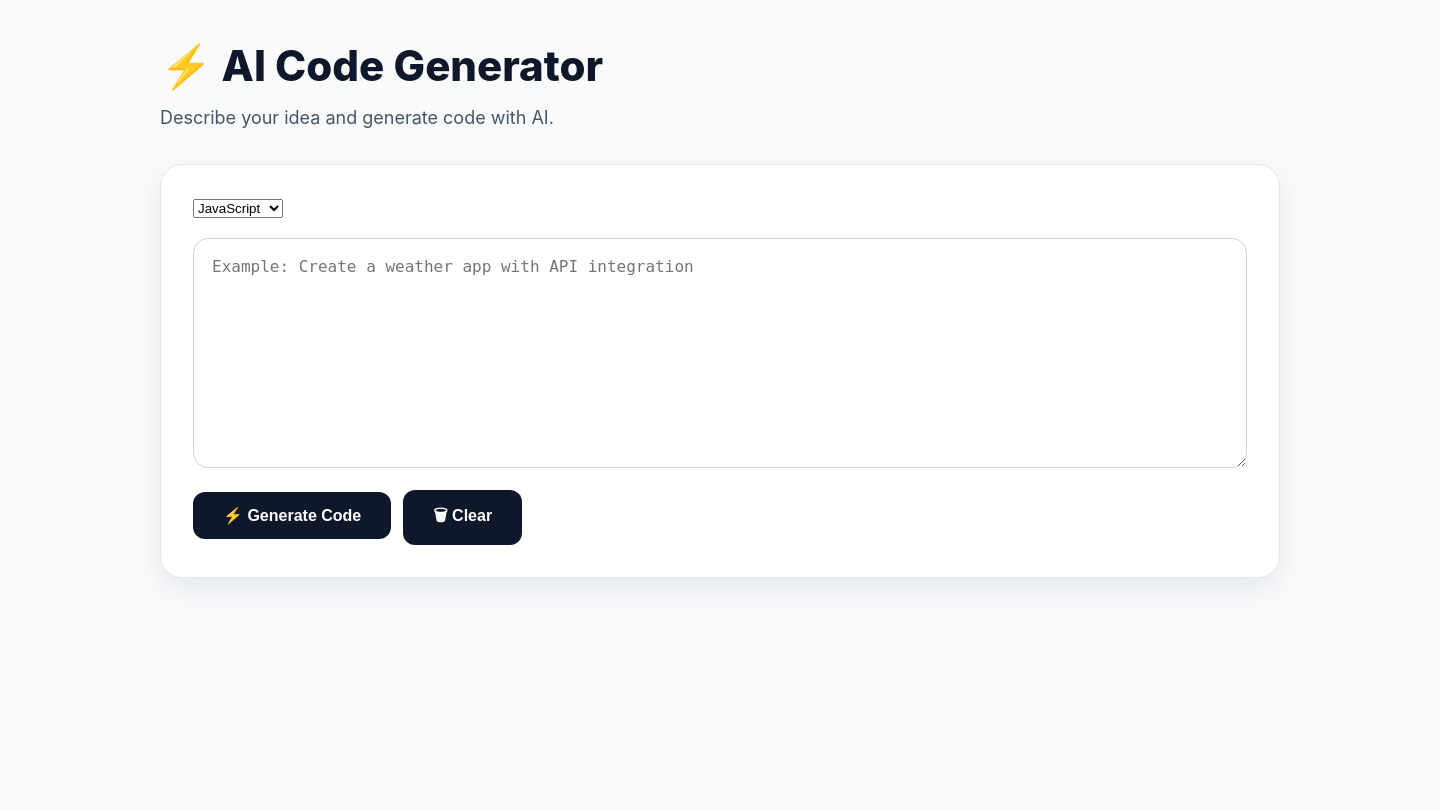
Test: CodeGenerator Component › should generate code and save history
The width and height of the screenshot is (1440, 810).
Type "Create a Hello World app" into the text box with placeholder "Example: Create a weather app with API integration" at (720, 353), box [193,238,1247,468]
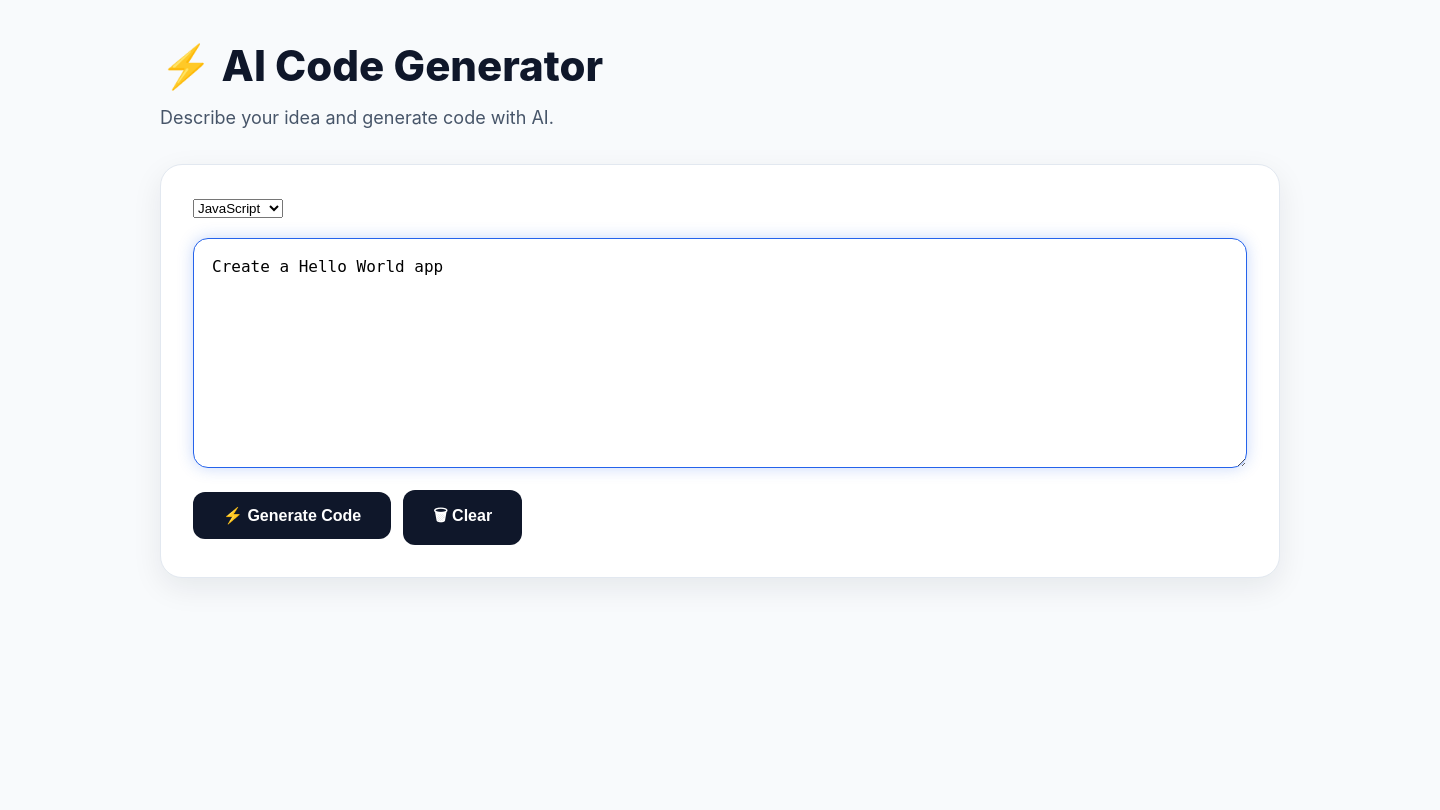
Click the button "⚡ Generate Code" at (292, 515), box [193,492,391,539]
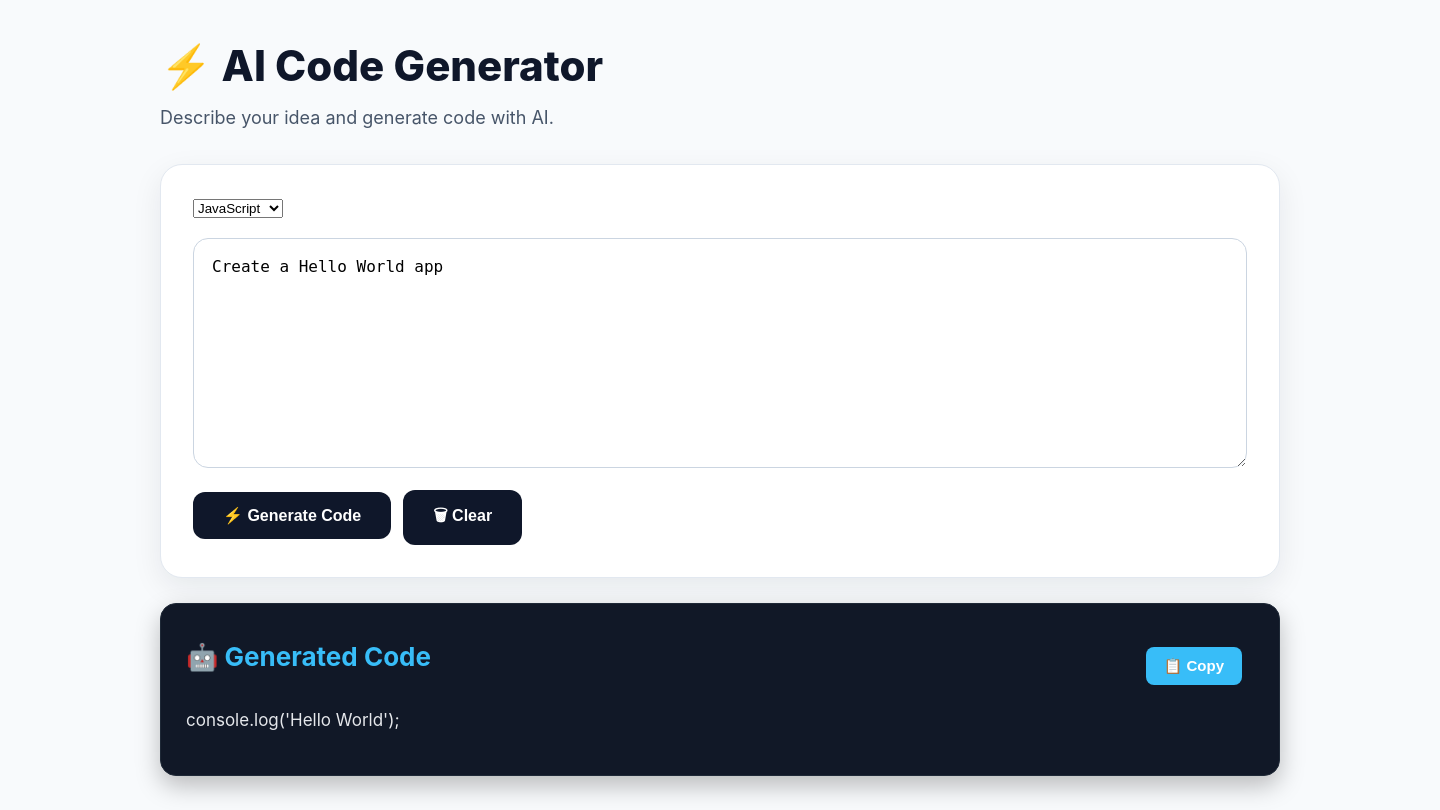
Expected: the text "console.log('Hello World');" is shown, [186,710,400,730]
